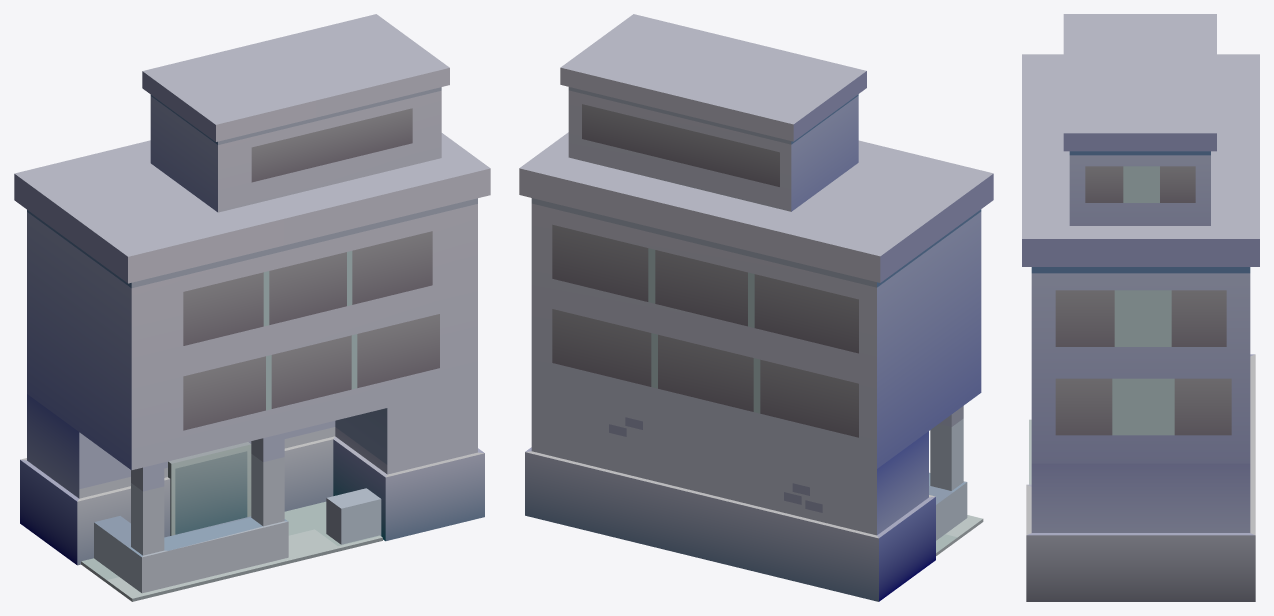
Rendered from build_h.glb.
The picture shows the model from 3 angles, left to right: view 1: azimuth 30°, elevation 25°; view 2: azimuth 150°, elevation 25°; view 3: azimuth 270°, elevation 25°; orthographic projection. The views are drawn at different scales.
Visible parts, largest first — view 1: build_h; view 2: build_h; view 3: build_h.
Part boxes in pixels (x1,y1,x2,y2): build_h: (14,14,490,601); build_h: (519,14,993,601); build_h: (1022,14,1259,601).
Size of the model in its own units: 2 by 2.32 by 1.09.
